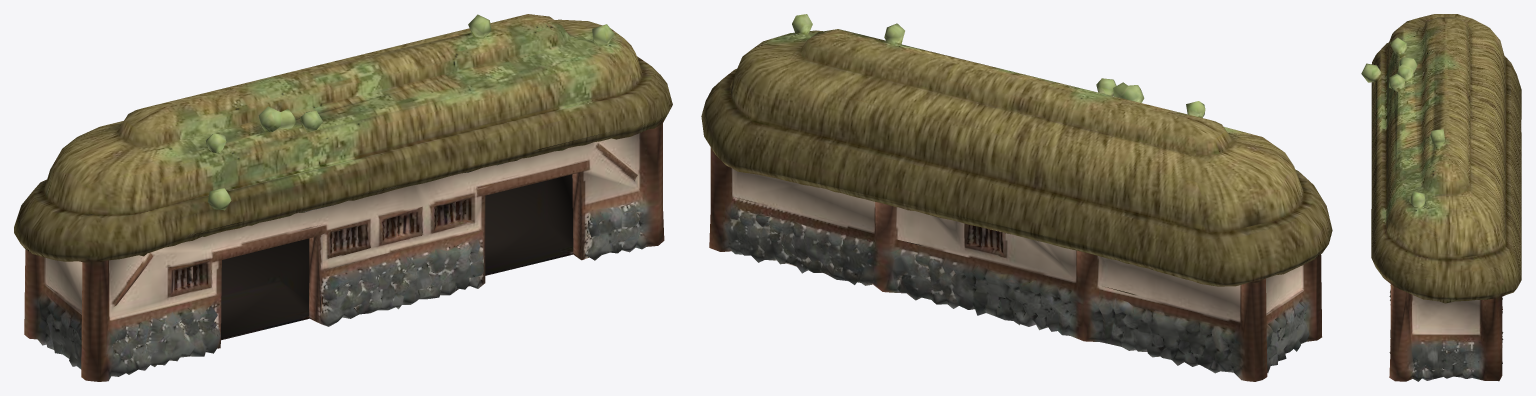
File: house-two-door.glb
The picture shows the model from 3 angles, left to right: view 1: azimuth 30°, elevation 25°; view 2: azimuth 150°, elevation 25°; view 3: azimuth 270°, elevation 25°; orthographic projection. The views are drawn at different scales.
Parts seen in each view (by area): view 1: house_two_door_lod0; view 2: house_two_door_lod0; view 3: house_two_door_lod0.
Part boxes in pixels (box(x1,y1,x2,y2)): house_two_door_lod0: box(14, 14, 672, 381); house_two_door_lod0: box(701, 14, 1332, 381); house_two_door_lod0: box(1361, 14, 1521, 381).
Bounding box in the file's own units: 12.11 × 4.48 × 3.34.
Materials: 1 (1 with a texture image).
